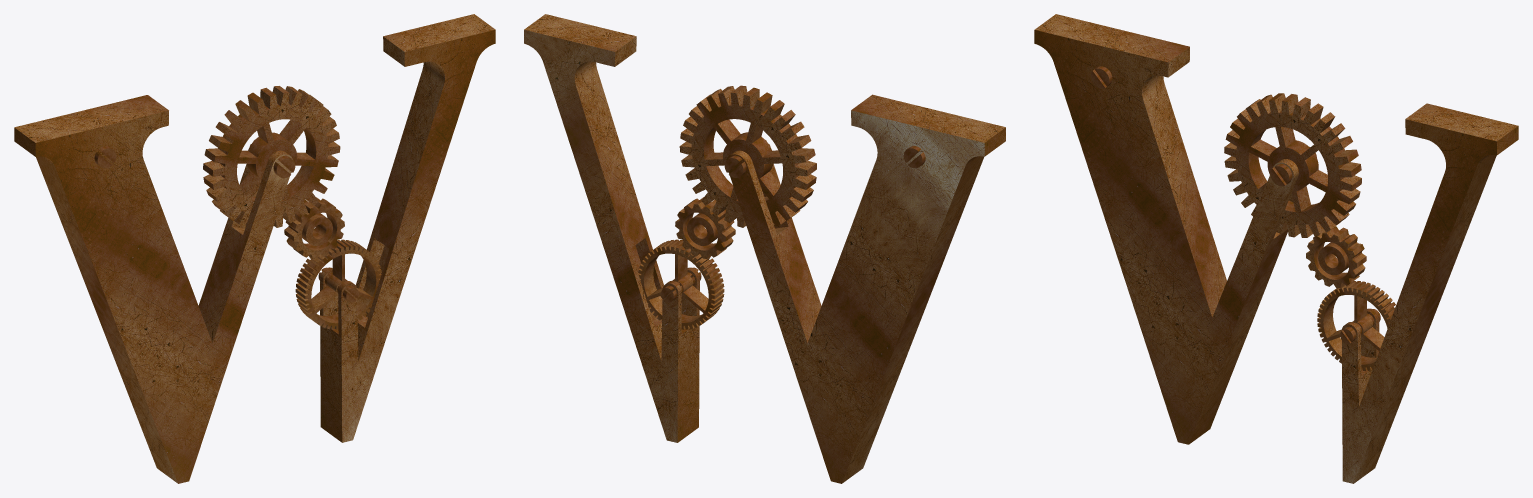
3 views of the same model, side by side, from view 1: azimuth 30°, elevation 25°; view 2: azimuth 150°, elevation 25°; view 3: azimuth 330°, elevation 25° (orthographic).
Visible parts, largest first — view 1: W, Cogwheel_229, Cogwheel_253, Cogwheel_250; view 2: W, Cogwheel_229, Cogwheel_253, Cogwheel_250; view 3: W, Cogwheel_229, Cogwheel_253, Cogwheel_250.
Part boxes in pixels (x1,y1,x2,y2): W: (14,14,495,483); Cogwheel_229: (203,86,340,227); Cogwheel_253: (295,239,381,329); Cogwheel_250: (284,197,344,258); W: (524,14,1005,483); Cogwheel_229: (679,85,816,227); Cogwheel_253: (638,239,724,329); Cogwheel_250: (675,197,735,258); W: (1034,14,1518,483); Cogwheel_229: (1224,93,1361,237); Cogwheel_253: (1317,281,1395,371); Cogwheel_250: (1306,226,1366,288).
Bounding box in the file's own units: 124 × 96.96 × 12.89.
1 material, 1 textured.
